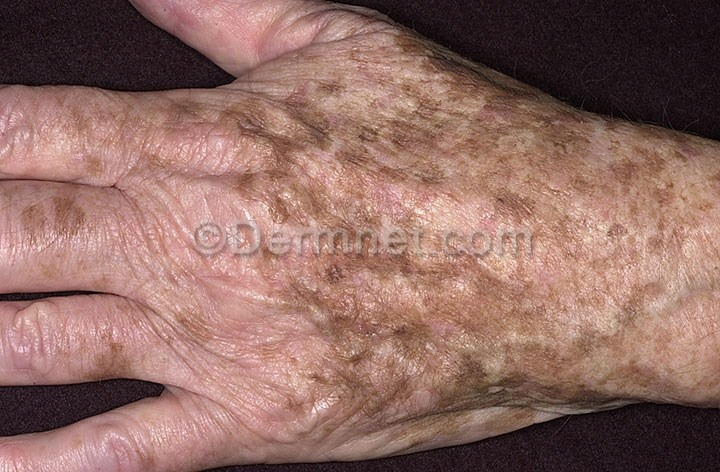Melasma: (306, 0, 478, 80)
